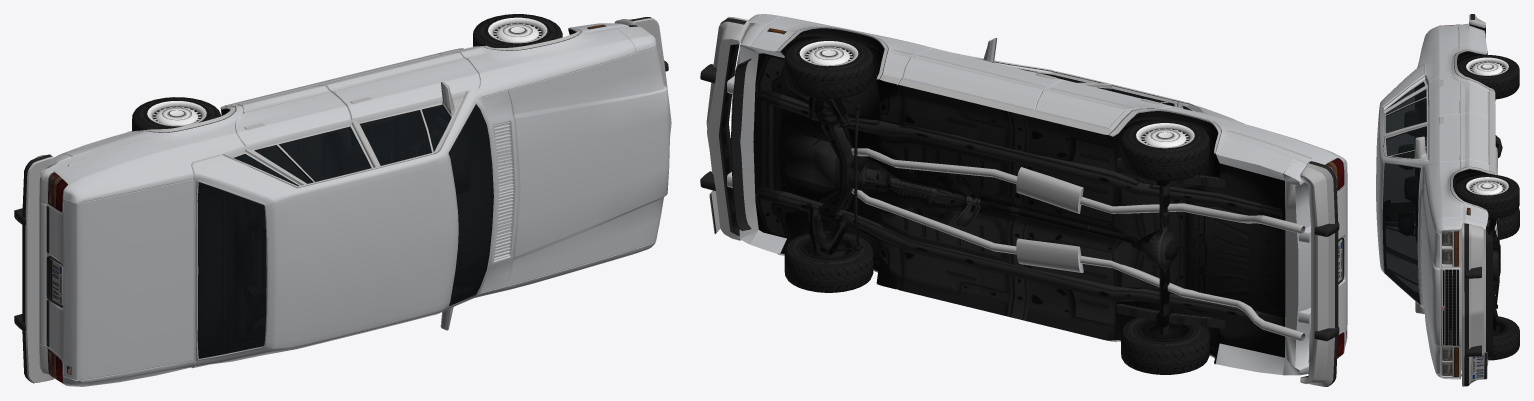
File: model_paint1.gltf
3 views of the same model, side by side, from view 1: azimuth 30°, elevation 25°; view 2: azimuth 150°, elevation 25°; view 3: azimuth 270°, elevation 25° (orthographic). The views are drawn at different scales.
Visible parts, largest first — view 1: fairheaven_lt80; view 2: fairheaven_lt80; view 3: fairheaven_lt80.
Boxes of the visible parts, x1,y1,x2,y2 form: fairheaven_lt80: [14, 14, 671, 386]; fairheaven_lt80: [700, 14, 1347, 386]; fairheaven_lt80: [1376, 14, 1519, 386].
Bounding box in the file's own units: 5 × 1.83 × 1.35.
8 materials, 7 textured.
